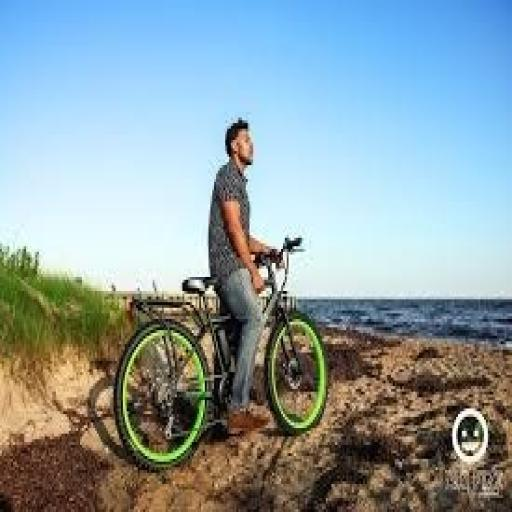cycling: (205, 115, 283, 439)
